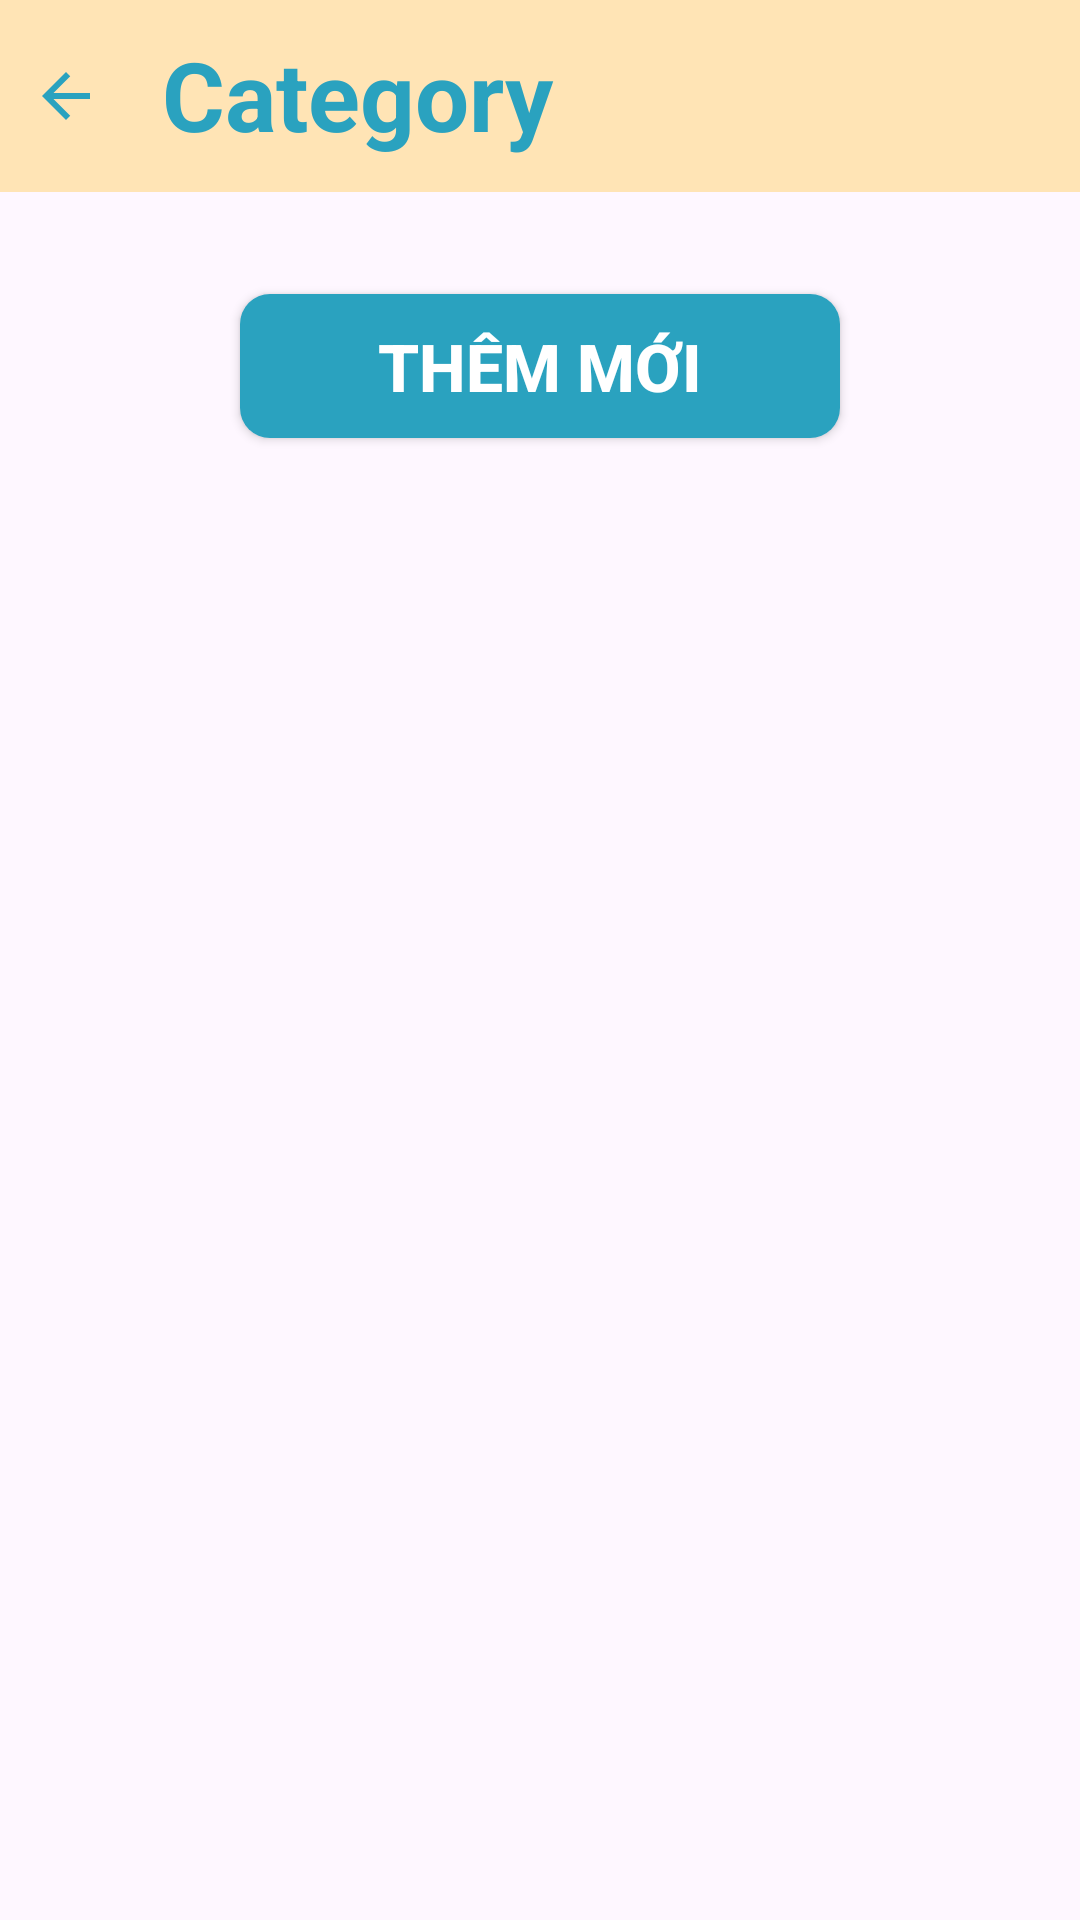

Screen size 1080px x 1920px. Icon name, then its center in pixels as (x,y):
Go back: (66,96)
